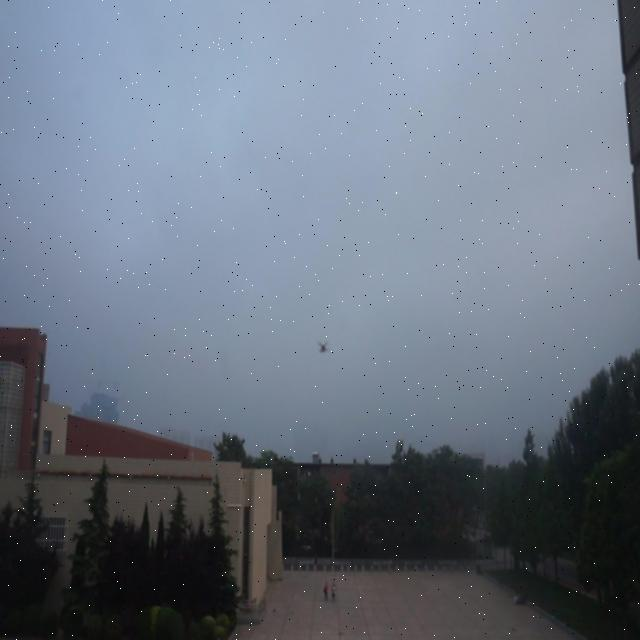UAV: (318, 341, 330, 354)
